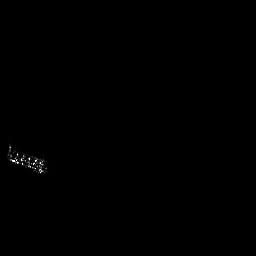ship: (5, 144, 49, 175)
